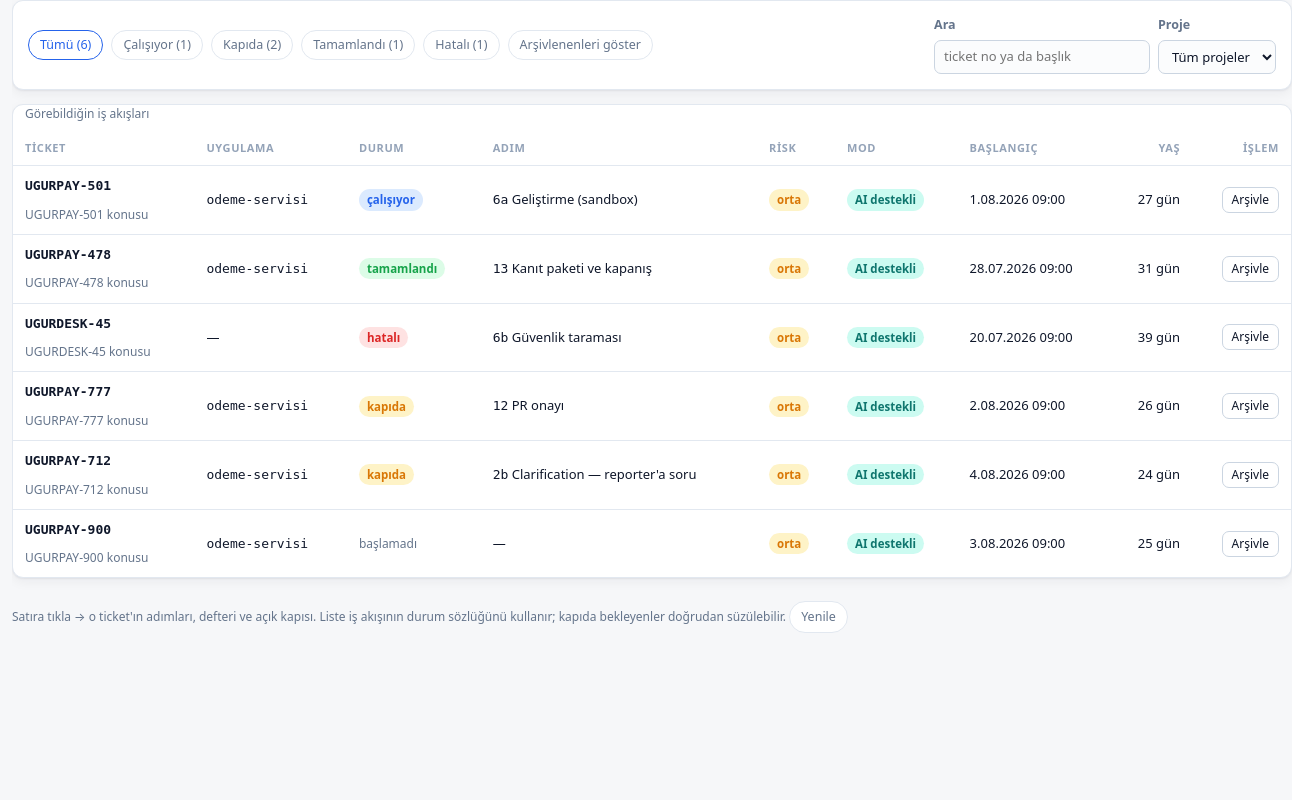
Test: tickets › lists runs from GET /studio/runs and filters by workflow status
The width and height of the screenshot is (1292, 800).
Check: the text "UGURPAY-501" is shown, box [25,178,111,193]
Check: the text "UGURPAY-478" is shown, box [25,247,111,262]
// "Tamamlandı (1)" — the count is derived, not hard-coded.
Step 1. Click the button "Tamamlandı (1)" → x=358, y=45, box [301,30,415,60]
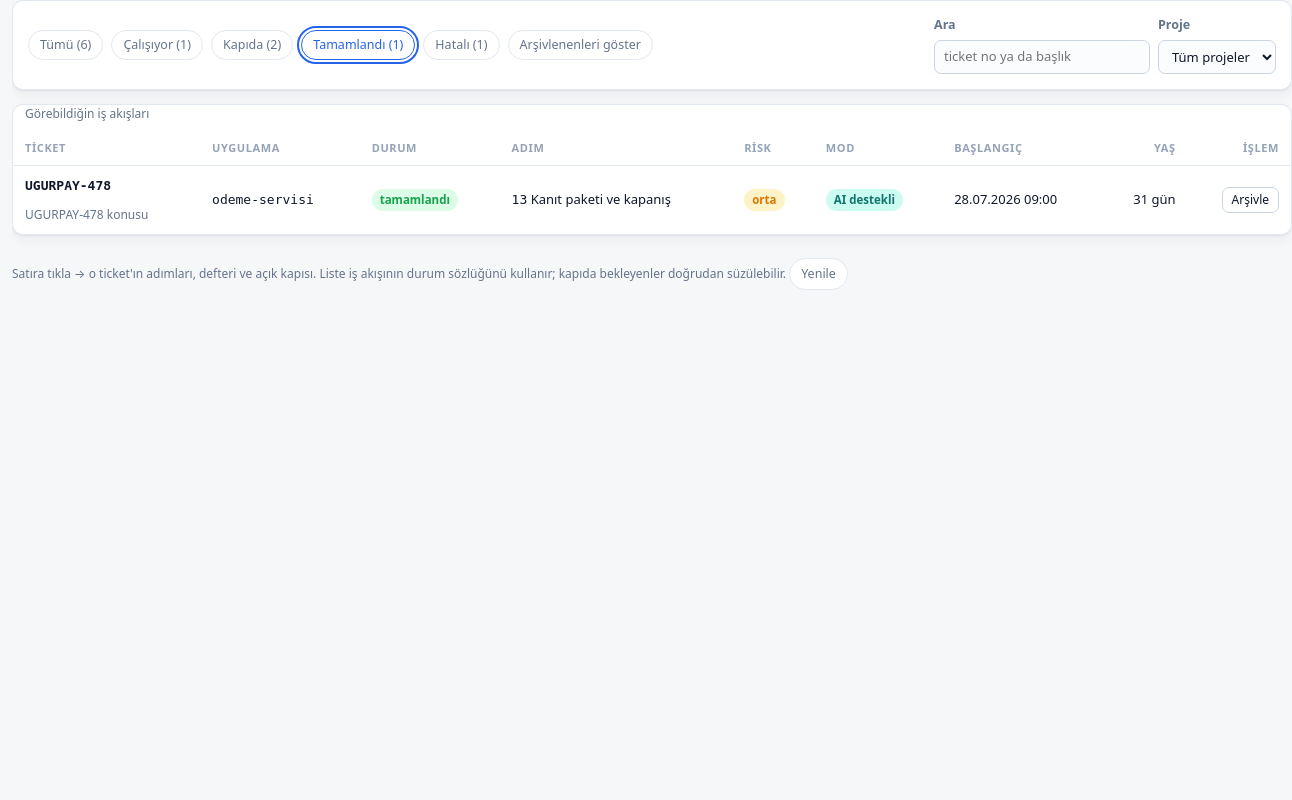
Check: the text "UGURPAY-478" is shown, box [25,178,111,193]
Check: the button "UGURPAY-501" is gone
Check: the button "UGURDESK-45" is gone
